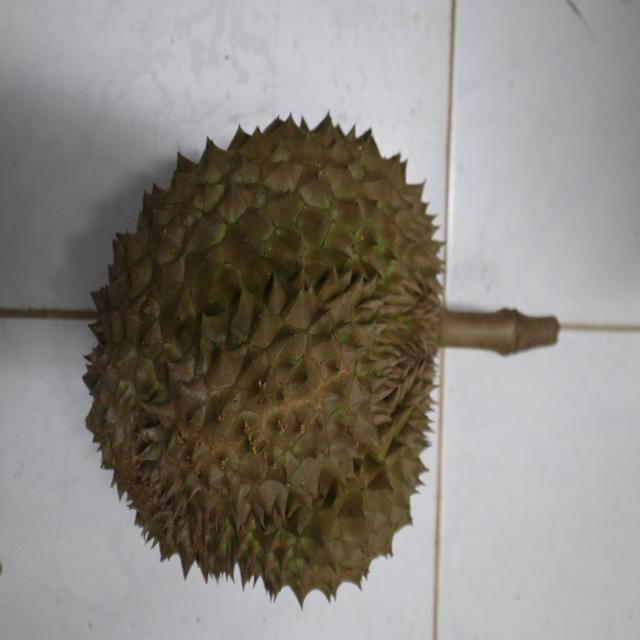mature: (80, 111, 447, 602)
